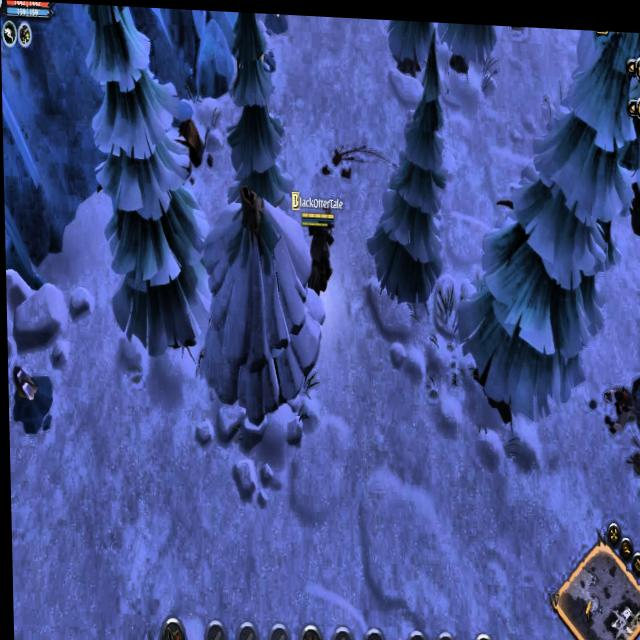copperore: (7, 364, 53, 433), (262, 11, 291, 31)
limestone: (175, 111, 207, 167)
